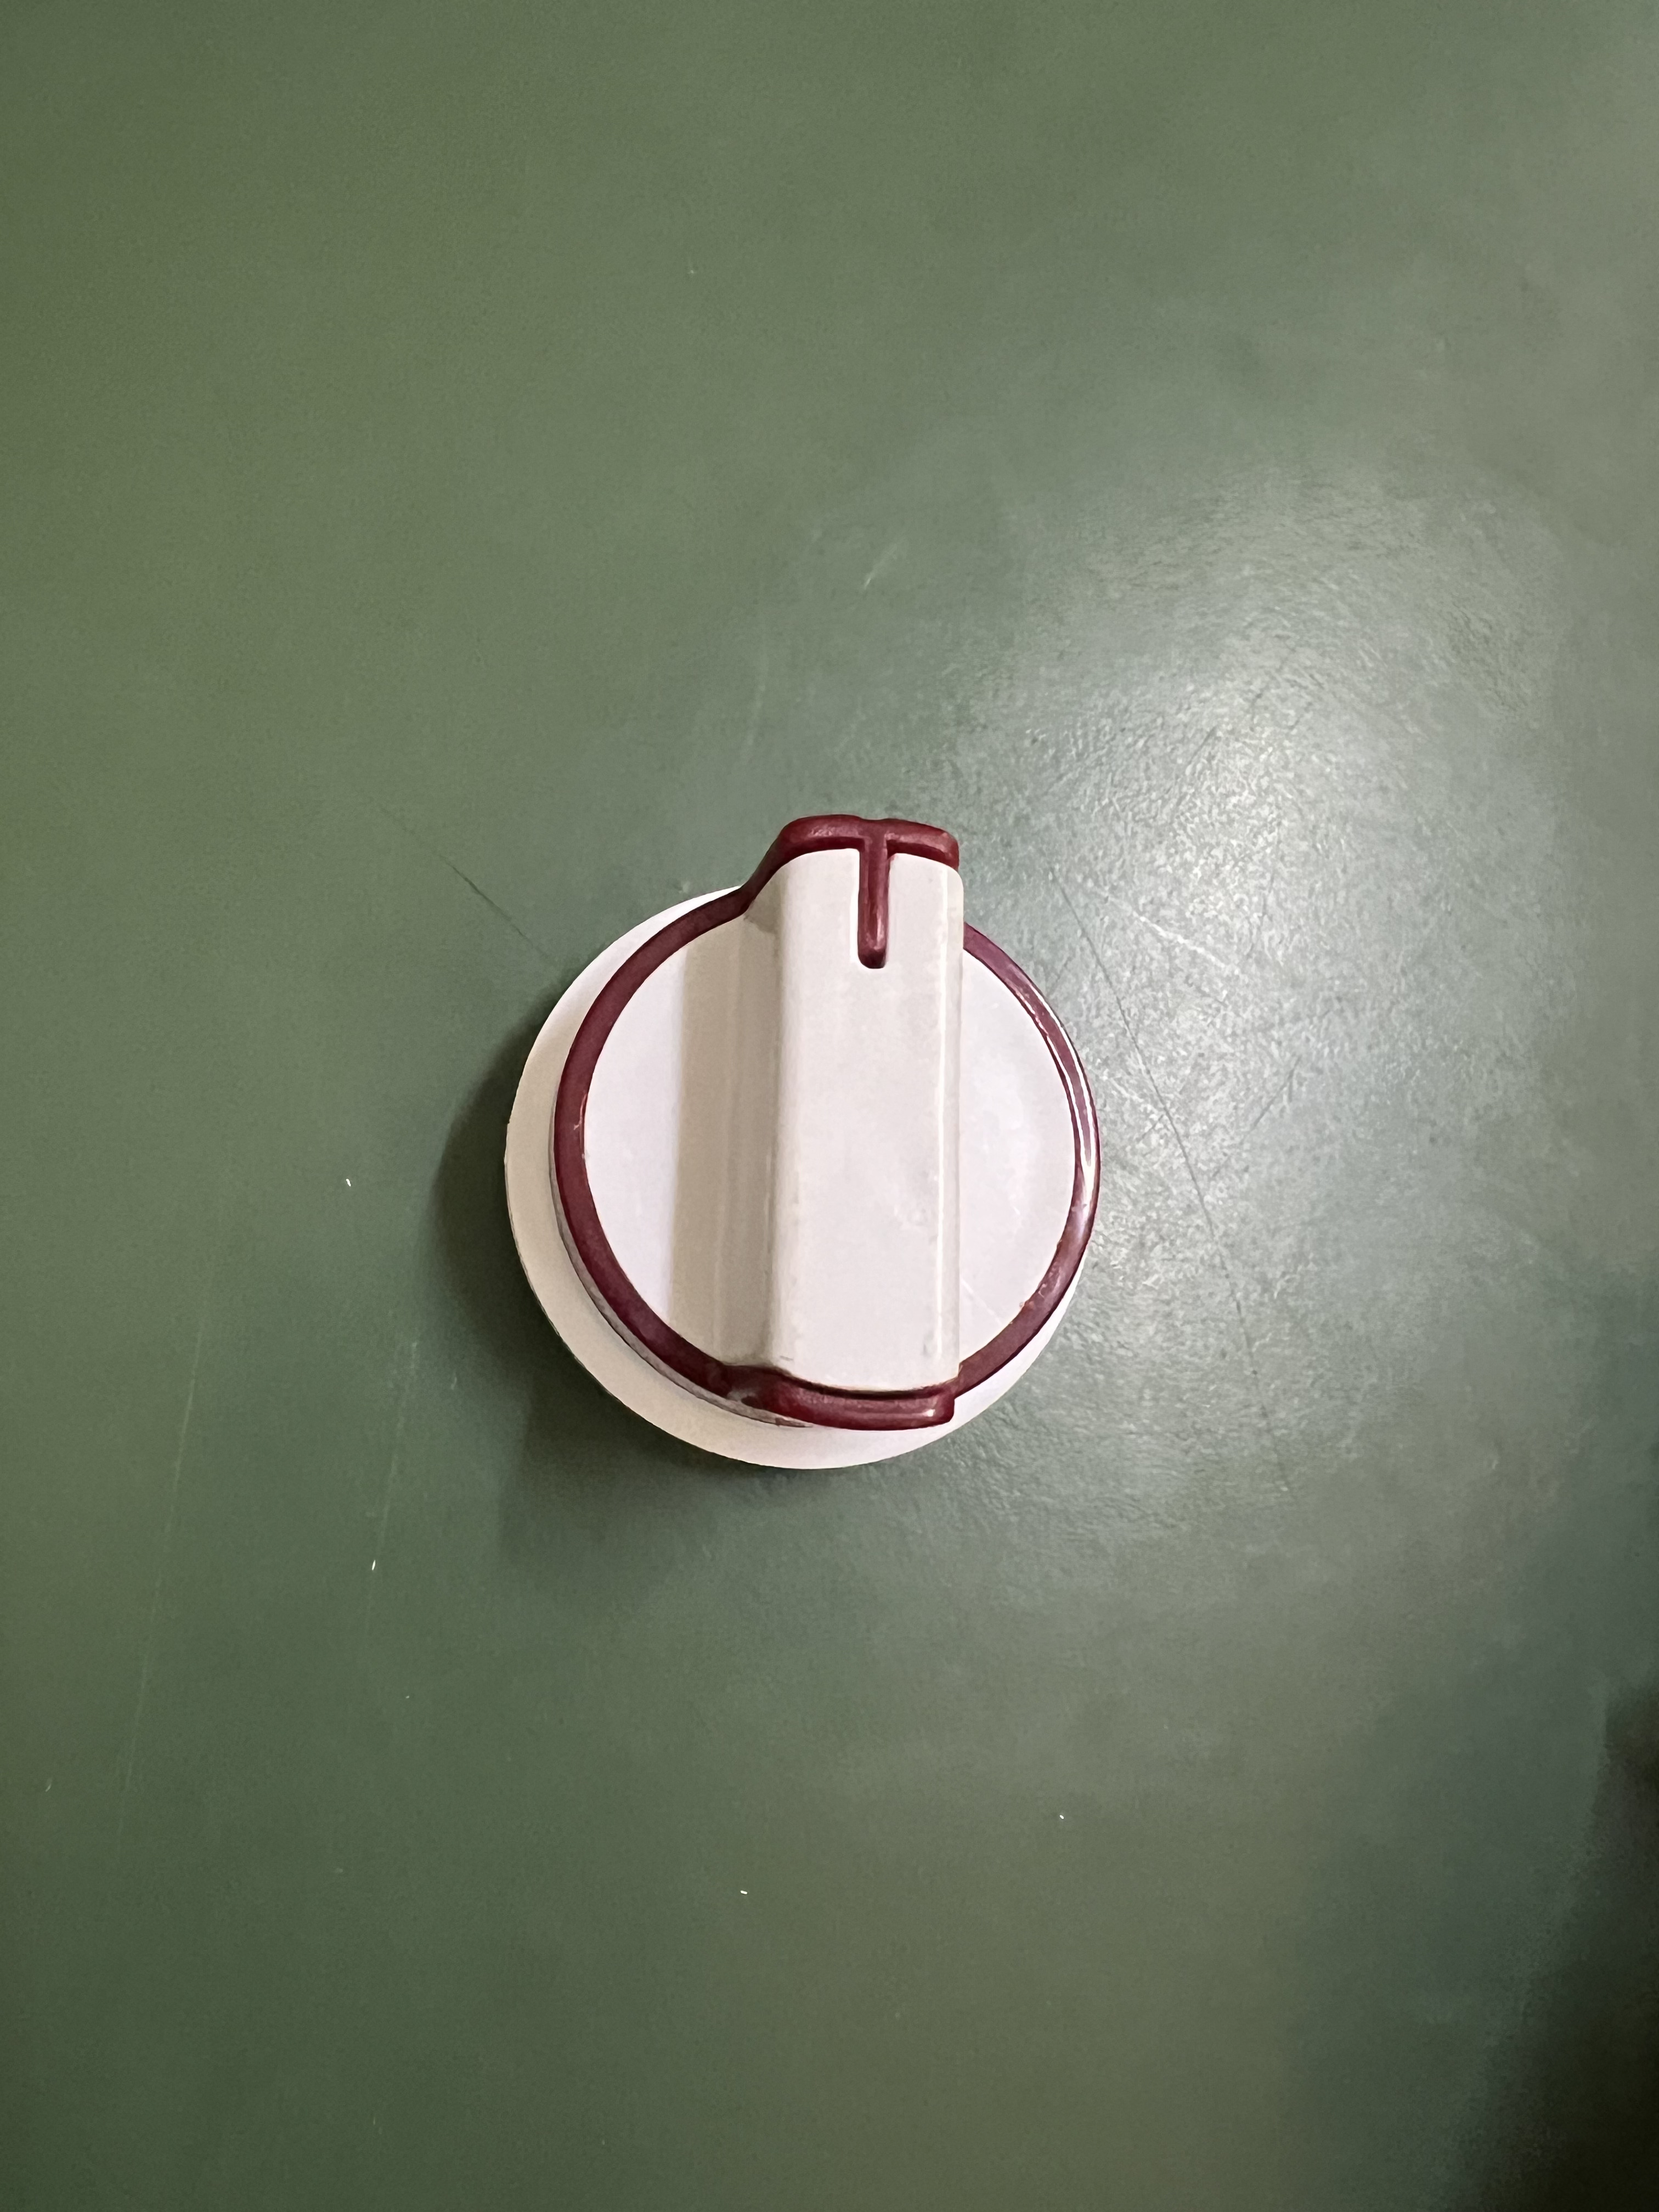regulator: (465, 796, 1096, 1479)
